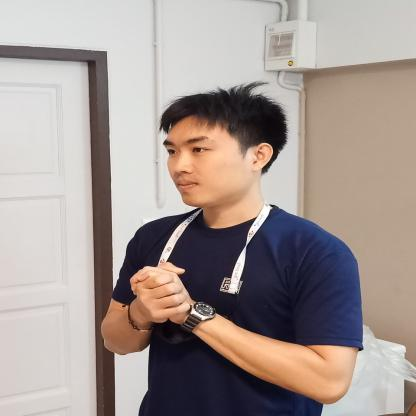Grieve: (68, 231, 266, 349)
